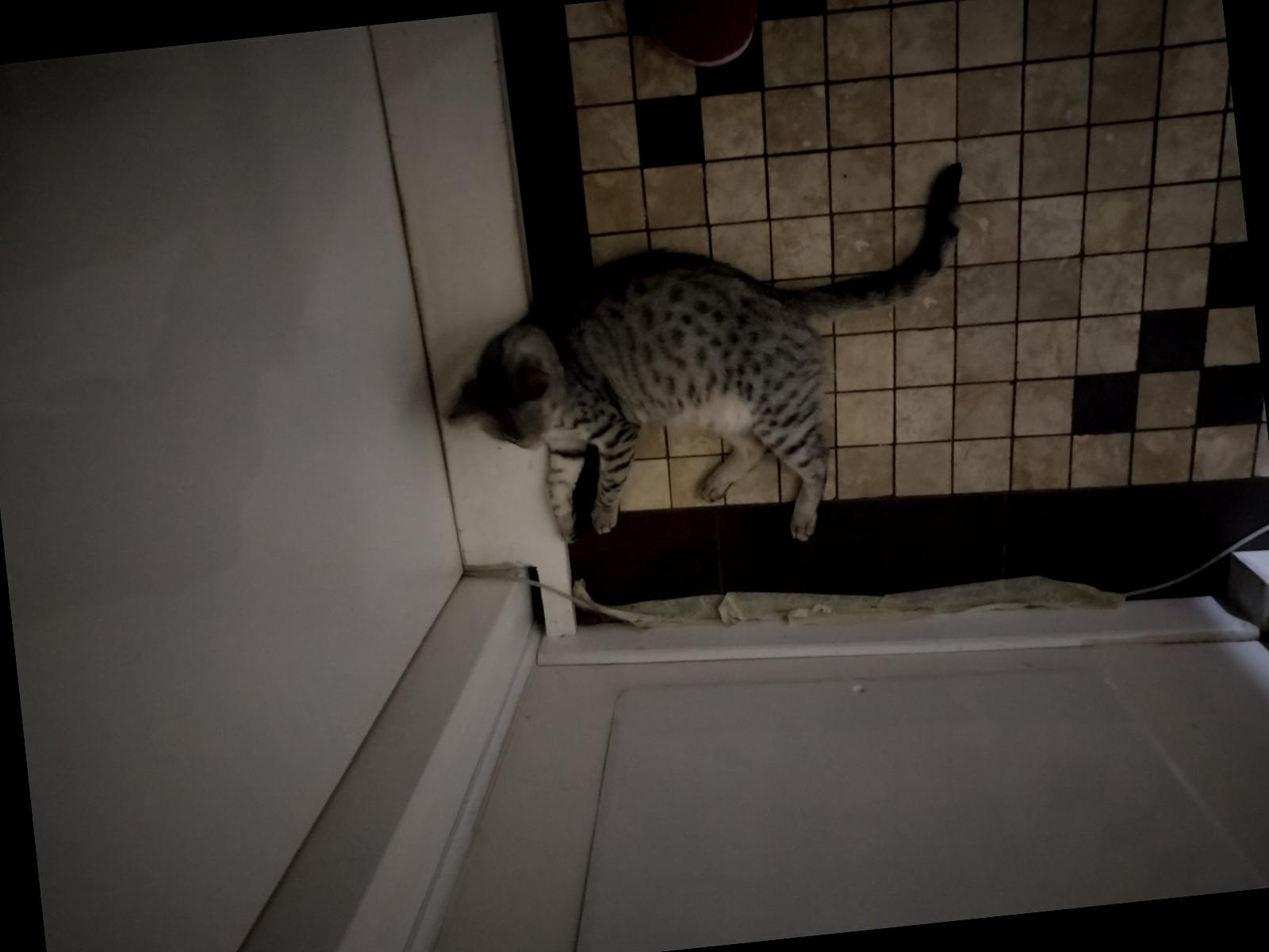macka: (424, 160, 1002, 578)
